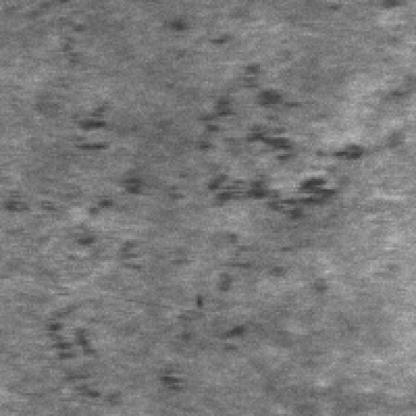rolled-in_scale: (48, 104, 179, 402), (206, 56, 370, 216)
